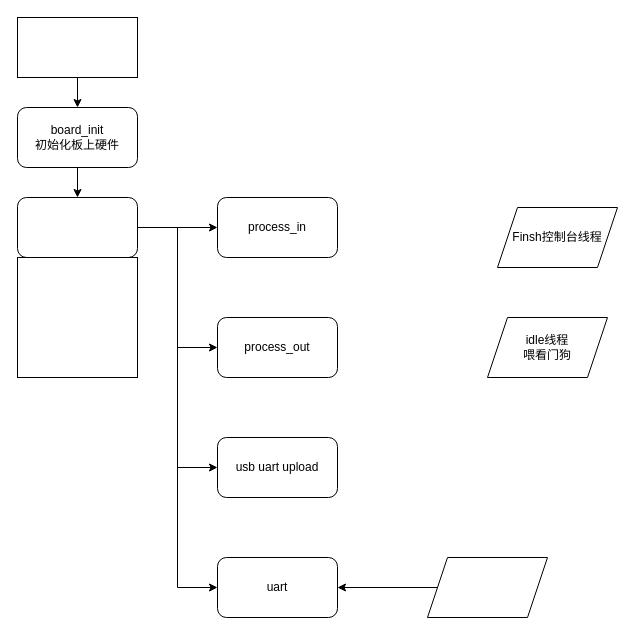
Image size: 635x635. Some labels were removed from this diagram. The shapes that lost their labels are listed below. From the top down, each one's centre as x and y in pixels, then its label:
At pixel 77 47: "RT-Thread系统启动".
At pixel 77 227: "main线程".
At pixel 77 317: "读取RTC数据".
At pixel 487 587: "uart1/2中断".
